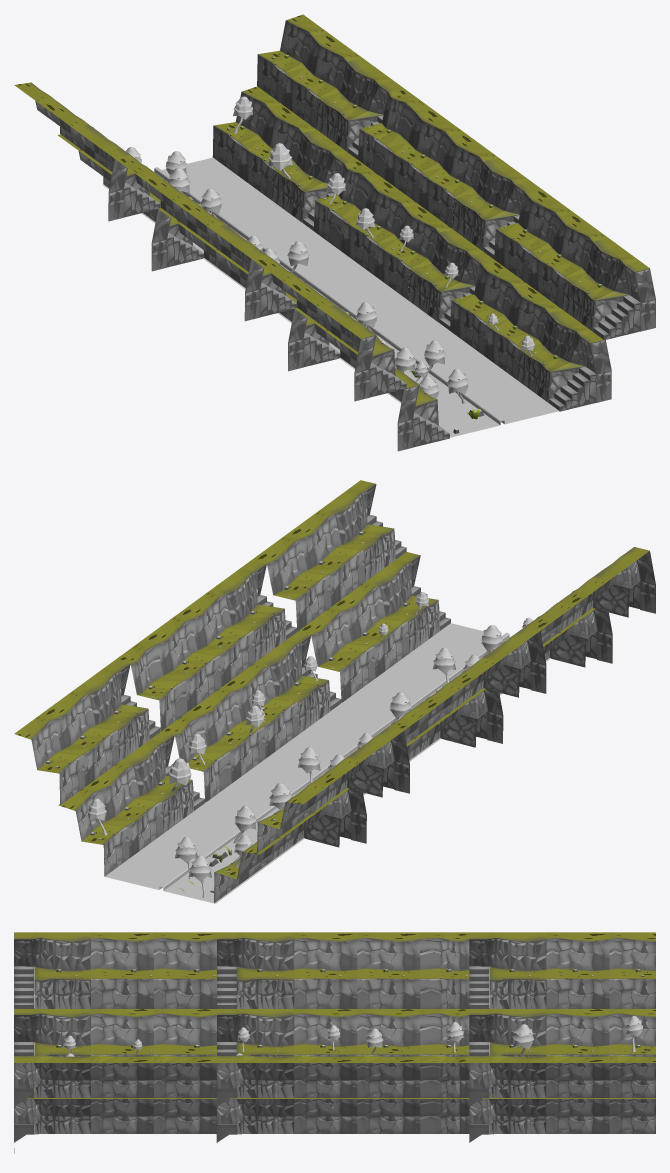
File: nuidai.fbx
3 views of the same model, one above another, from view 1: azimuth 30°, elevation 25°; view 2: azimuth 150°, elevation 25°; view 3: azimuth 270°, elevation 25° (orthographic). The views are drawn at different scales.
Visible parts, largest first — view 1: polySurface91, polySurface109, pPlane70; view 2: polySurface91, polySurface109, pPlane70; view 3: polySurface109, polySurface91.
Boxes of the visible parts, bbox=[...] form: polySurface91: bbox=[212, 14, 655, 411]; polySurface109: bbox=[14, 82, 504, 451]; pPlane70: bbox=[162, 157, 558, 424]; polySurface91: bbox=[14, 480, 450, 876]; polySurface109: bbox=[159, 547, 655, 903]; pPlane70: bbox=[105, 623, 501, 889]; polySurface109: bbox=[14, 932, 655, 1091]; polySurface91: bbox=[14, 1055, 655, 1153].
Bounding box in the file's own units: 131 × 52.1 × 261.
